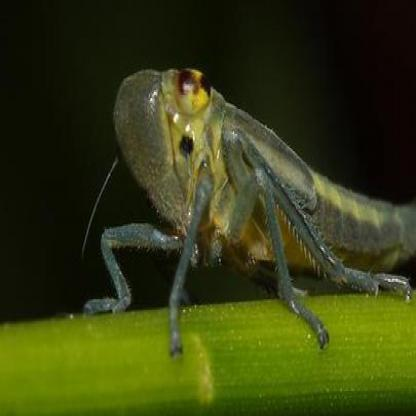Green-Leafhopper: (77, 58, 416, 356)
